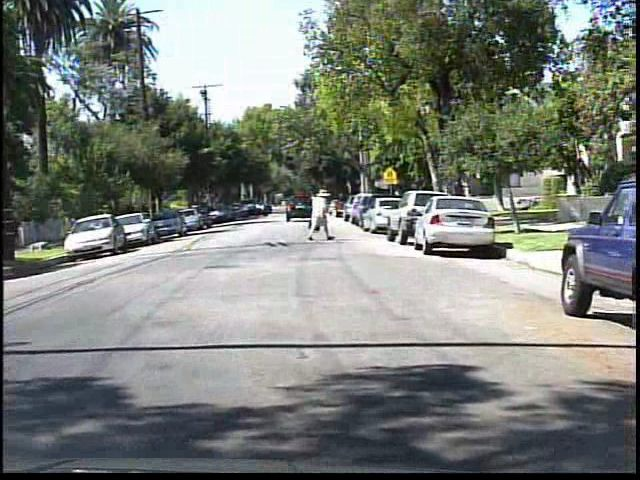person: (304, 185, 336, 243)
